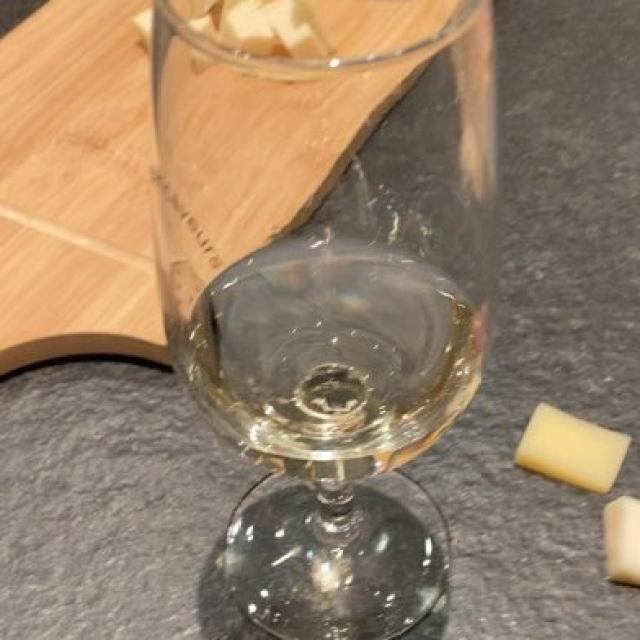wine-white: (178, 237, 474, 461)
